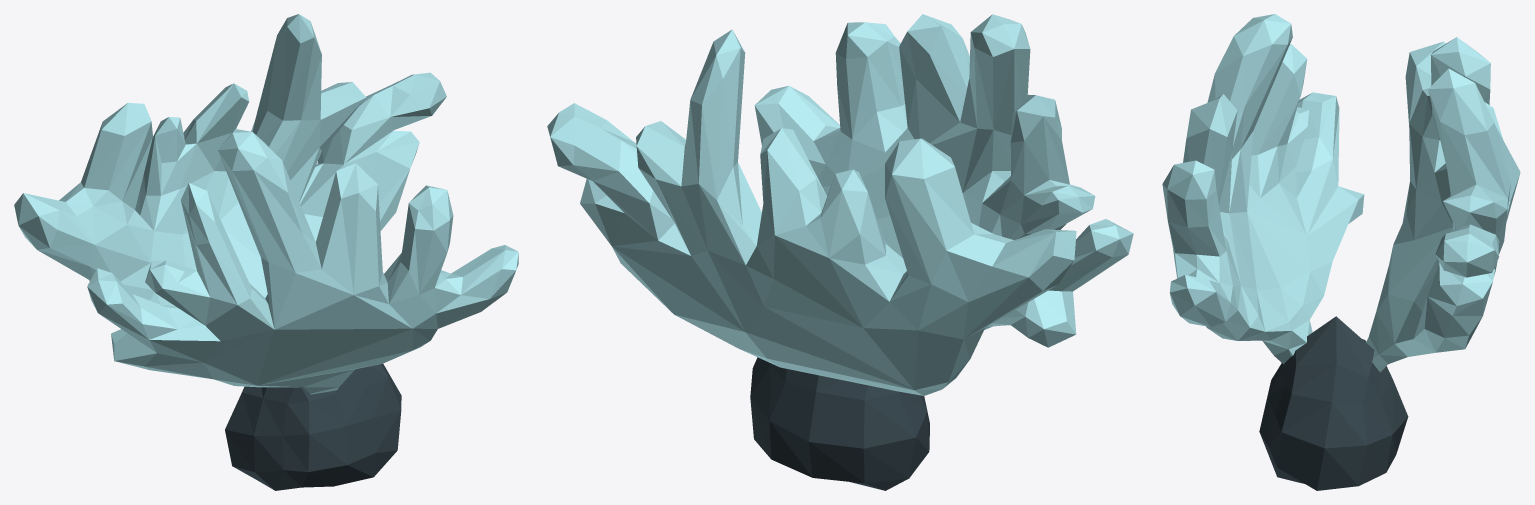
Rendered from Coral_014.glb.
The picture shows the model from 3 angles, left to right: view 1: azimuth 30°, elevation 25°; view 2: azimuth 150°, elevation 25°; view 3: azimuth 270°, elevation 25°; orthographic projection. The views are drawn at different scales.
Visible parts, largest first — view 1: Coral_014; view 2: Coral_014; view 3: Coral_014.
Boxes of the visible parts, bbox=[...] form: Coral_014: bbox=[14, 14, 518, 490]; Coral_014: bbox=[547, 14, 1133, 490]; Coral_014: bbox=[1162, 14, 1520, 490].
Bounding box in the file's own units: 0.5601 × 0.5011 × 0.3833.
Materials: 1 (1 with a texture image).
